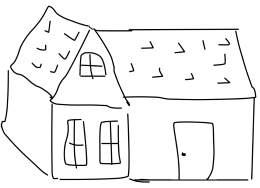big_house: (1, 1, 260, 188)
closed_window: (59, 115, 91, 171), (95, 117, 121, 170), (74, 50, 110, 81)
door: (164, 117, 220, 183)
roof: (45, 22, 260, 110)
wall: (120, 87, 257, 184)
